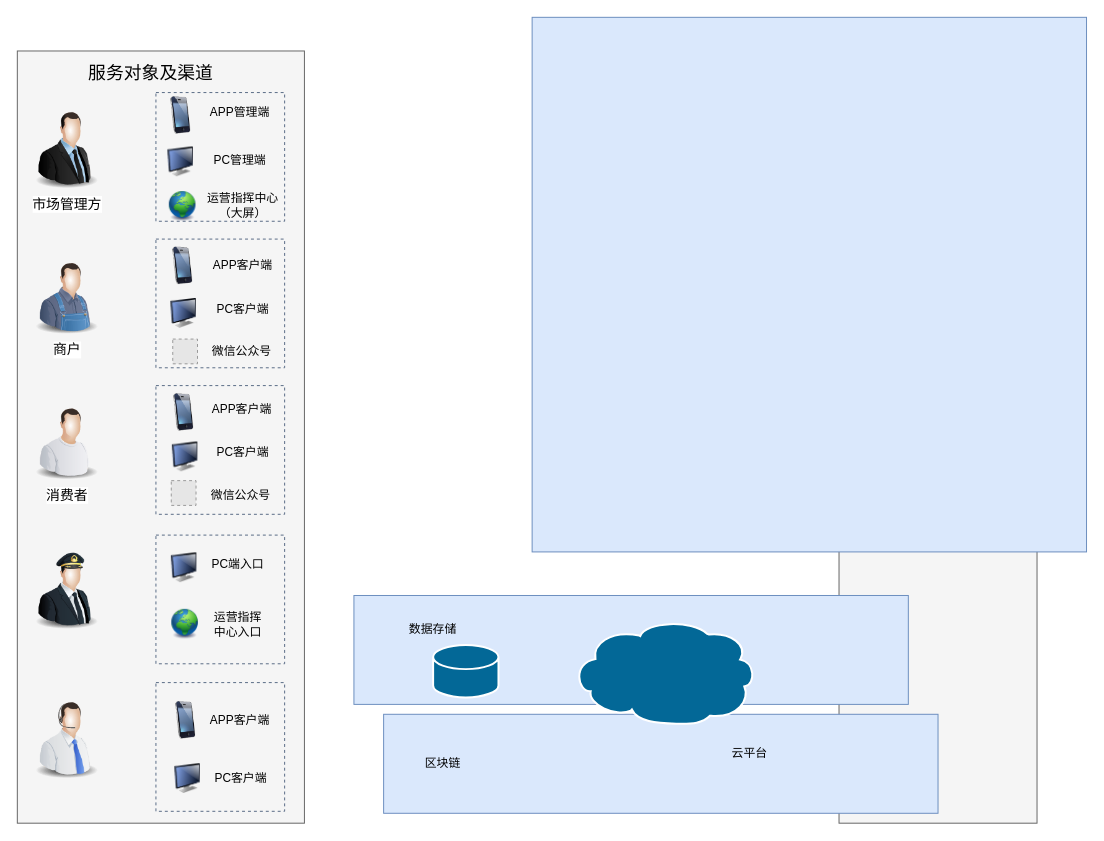
Some shapes in this 1104 by 841 pixel diagram are drawn without their labels. Grey dashed boxes stand in for pictures. Each missing label, with the centre of its shape:
"政府监管方" goes at (66,590).
"物流管理方" goes at (66,739).
